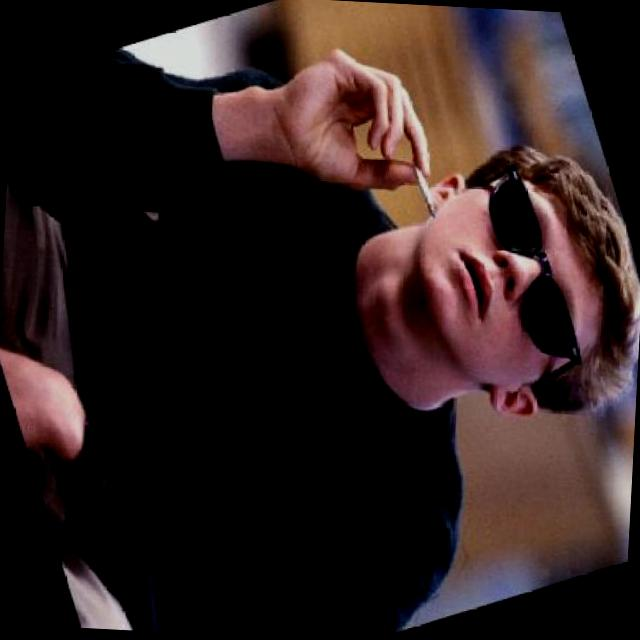cigarette: (403, 151, 442, 224)
